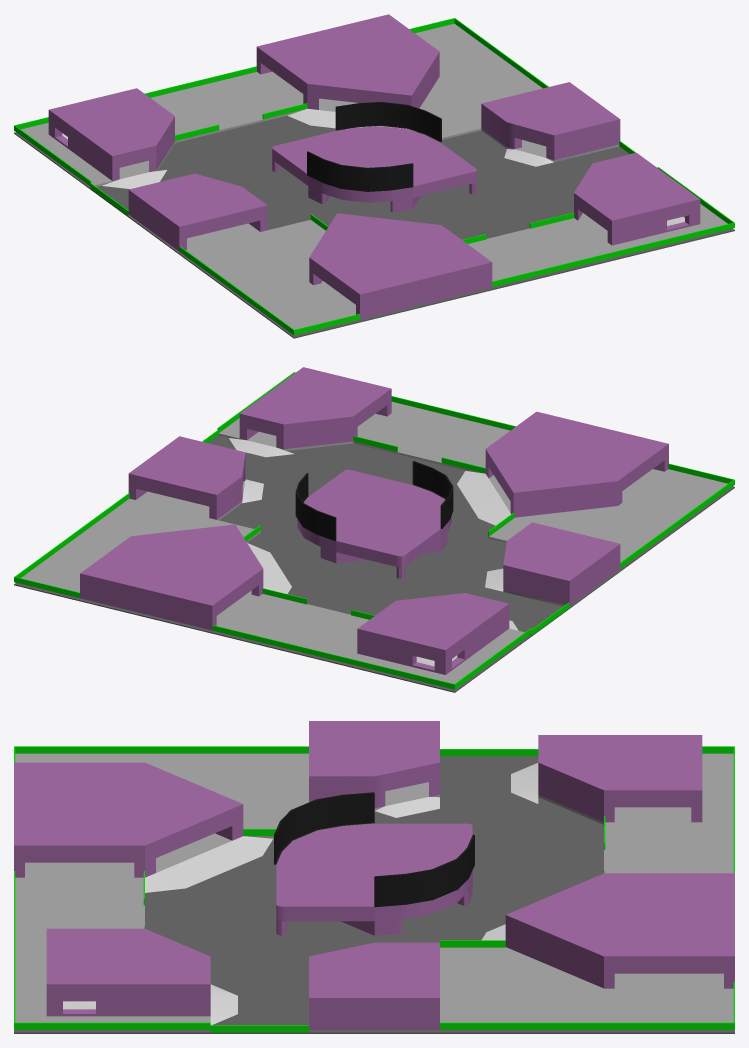
The model's file is arena04_r001.fbx.
3 views of the same model, one above another, from view 1: azimuth 30°, elevation 25°; view 2: azimuth 150°, elevation 25°; view 3: azimuth 270°, elevation 25° (orthographic). The views are drawn at different scales.
Visible parts, largest first — view 1: floor, top_floor2, top_floor1, top_building1, top_building4, top_building7, top_building, top_building3, top_building6, middle_building, middle_billboard, polySurface2 (+7 smaller); view 2: floor, top_floor2, top_floor1, top_building4, top_building1, top_building7, top_building, top_building6, middle_building, top_building3, middle_billboard, polySurface3 (+8 smaller); view 3: floor, top_floor1, top_floor2, top_building4, top_building1, top_building, top_building7, top_building3, middle_building, top_building6, middle_billboard, polySurface2 (+11 smaller).
Boxes of the visible parts, <box> form: floor: <box>14,115,734,338</box>; top_floor2: <box>129,204,727,329</box>; top_floor1: <box>21,23,619,186</box>; top_building1: <box>309,213,492,319</box>; top_building4: <box>256,14,439,109</box>; top_building7: <box>48,88,174,180</box>; top_building: <box>574,152,700,245</box>; top_building3: <box>481,82,620,160</box>; top_building6: <box>128,173,267,251</box>; middle_building: <box>308,126,440,211</box>; middle_billboard: <box>307,102,441,191</box>; polySurface2: <box>412,143,476,197</box>; floor: <box>14,435,734,692</box>; top_floor2: <box>218,401,727,606</box>; top_floor1: <box>21,478,530,683</box>; top_building4: <box>80,524,263,630</box>; top_building1: <box>485,411,668,517</box>; top_building7: <box>357,593,509,674</box>; top_building: <box>239,367,391,449</box>; top_building6: <box>503,522,620,605</box>; middle_building: <box>297,485,451,563</box>; top_building3: <box>128,436,245,519</box>; middle_billboard: <box>295,461,453,540</box>; polySurface3: <box>336,529,440,578</box>; floor: <box>14,756,734,1033</box>; top_floor1: <box>440,753,733,1022</box>; top_floor2: <box>15,753,439,1022</box>; top_building4: <box>505,873,734,988</box>; top_building1: <box>14,762,243,877</box>; top_building: <box>46,928,210,1016</box>; top_building7: <box>538,735,702,822</box>; top_building3: <box>309,942,439,1029</box>; middle_building: <box>276,823,472,935</box>; top_building6: <box>309,721,439,808</box>; middle_billboard: <box>274,792,474,907</box>; polySurface2: <box>276,865,374,935</box>.
Size of the model in its own units: 450 by 46 by 495.
